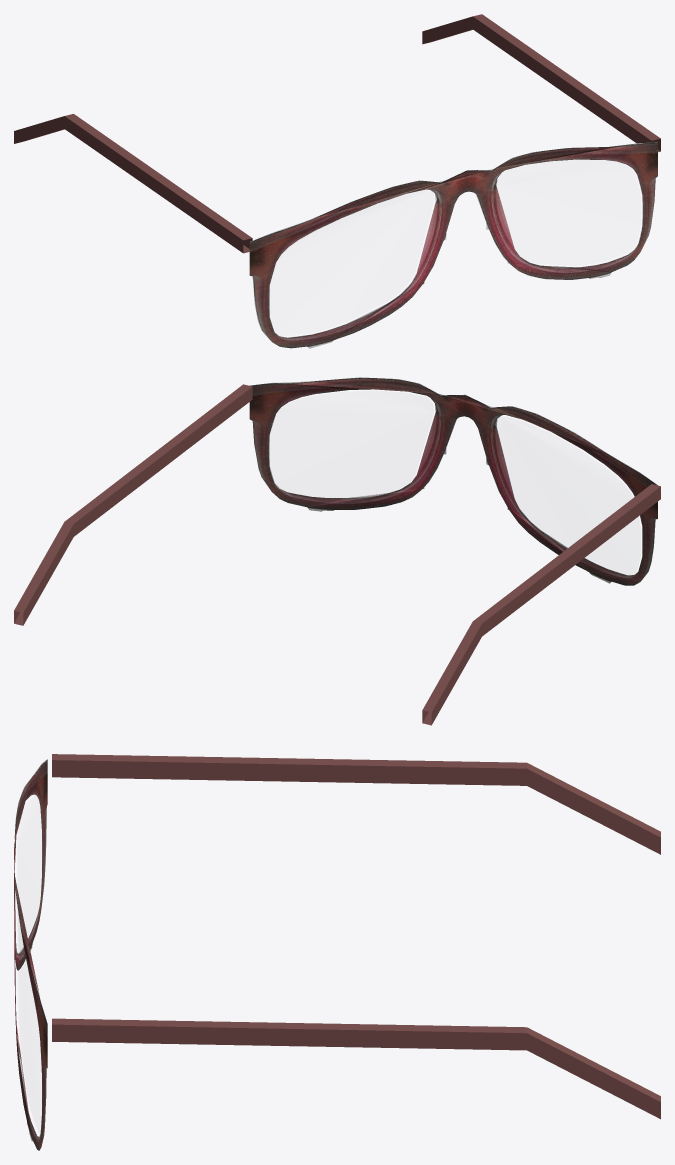
Rendered from gothamstyle-flex-matte-32_matte-red.glb.
3 renders of one model, top to bottom at view 1: azimuth 30°, elevation 25°; view 2: azimuth 150°, elevation 25°; view 3: azimuth 270°, elevation 25°, orthographic. The views are drawn at different scales.
Visible parts, largest first — view 1: frame_front, temple_viewer_left, temple_viewer_right; view 2: frame_front, temple_viewer_right, temple_viewer_left; view 3: temple_viewer_left, temple_viewer_right, frame_front.
Part boxes in pixels (x1,y1,x2,y2): frame_front: (249, 142, 657, 348); temple_viewer_left: (14, 114, 252, 253); temple_viewer_right: (422, 14, 660, 152); frame_front: (249, 377, 657, 585); temple_viewer_right: (14, 384, 252, 625); temple_viewer_left: (422, 484, 660, 725); temple_viewer_left: (52, 754, 660, 854); temple_viewer_right: (52, 1018, 660, 1119); frame_front: (14, 759, 47, 1150).
Size of the model in its own units: 0.1346 by 0.0454 by 0.136.
3 materials, 2 textured.
